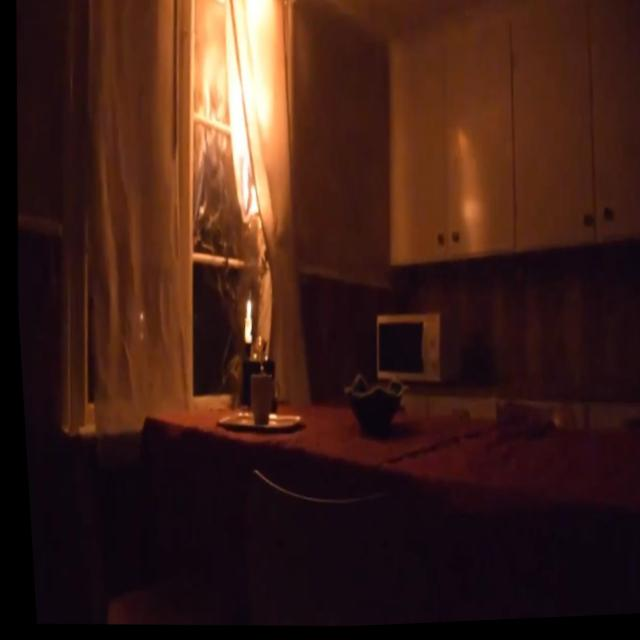fire: (189, 0, 299, 233), (239, 295, 250, 321)
